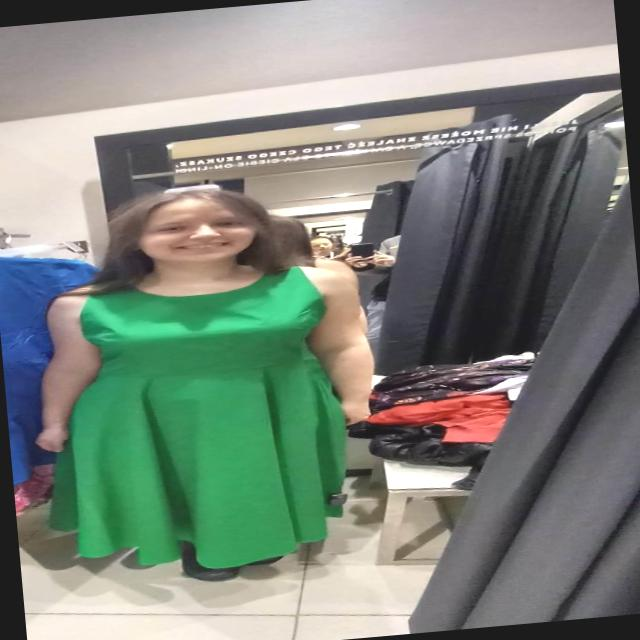dress: (24, 260, 356, 584)
